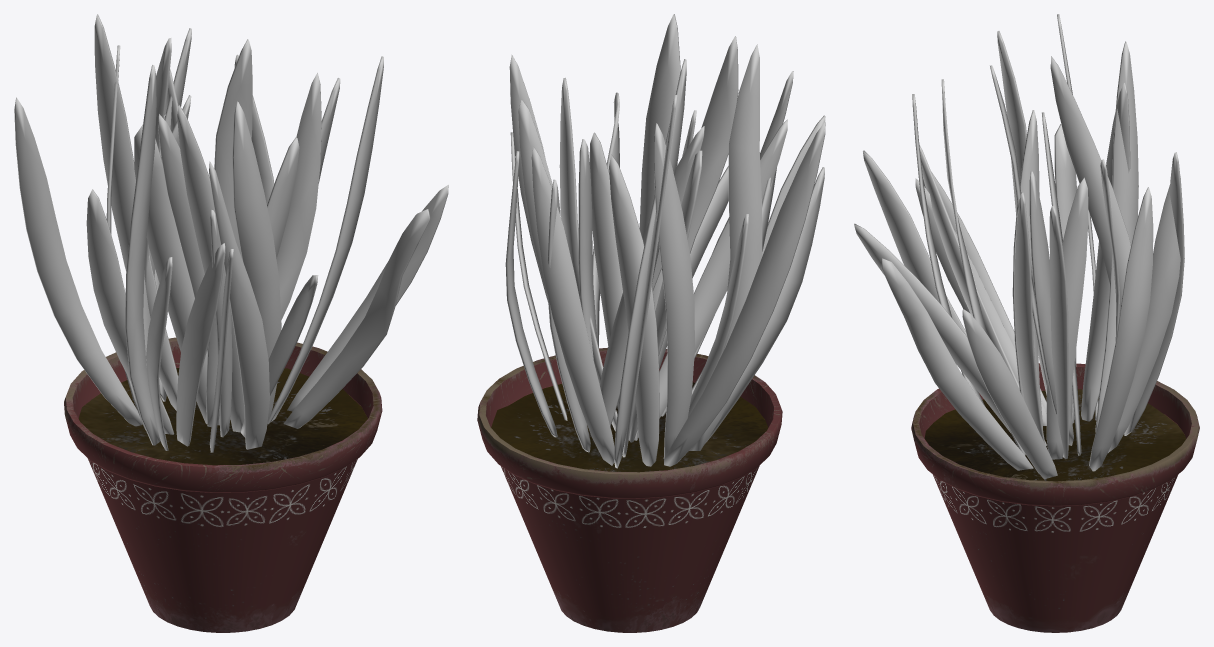
File: Plant.fbx
The picture shows the model from 3 angles, left to right: view 1: azimuth 30°, elevation 25°; view 2: azimuth 150°, elevation 25°; view 3: azimuth 270°, elevation 25°; orthographic projection. The views are drawn at different scales.
Visible parts, largest first — view 1: Aloe; view 2: Aloe; view 3: Aloe.
Part boxes in pixels (x1,y1,x2,y2): Aloe: (14, 14, 448, 632); Aloe: (477, 14, 825, 632); Aloe: (854, 14, 1199, 632).
Size of the model in its own units: 52.95 by 78.61 by 46.09.
